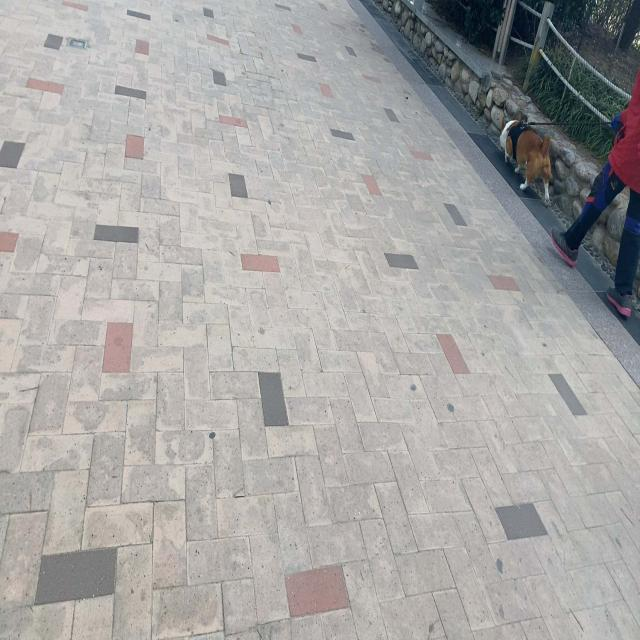Leashed_Dog: (499, 113, 626, 208)
